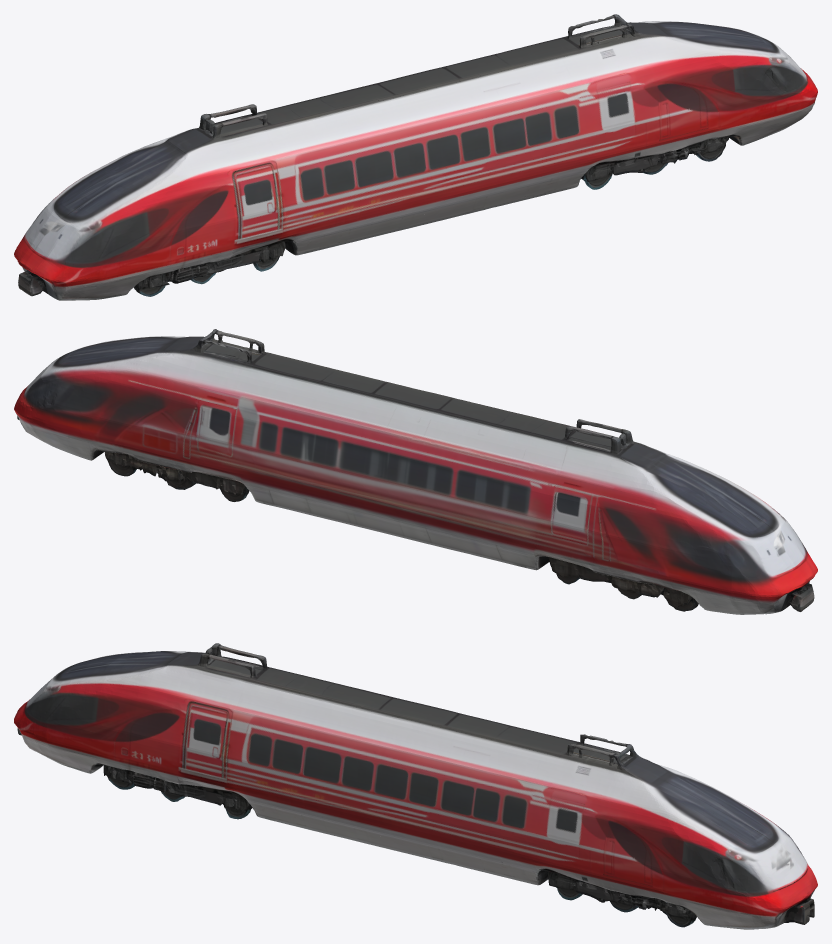
Rendered from Speeding_Intercity_Ex_0623115903_texture.fbx.
3 views of the same model, one above another, from view 1: azimuth 30°, elevation 25°; view 2: azimuth 150°, elevation 25°; view 3: azimuth 330°, elevation 25° (orthographic).
Visible parts, largest first — view 1: temp; view 2: temp; view 3: temp.
Boxes of the visible parts, box(x1,y1,x2,y2) form: temp: box(14, 14, 817, 300); temp: box(14, 329, 817, 614); temp: box(14, 643, 817, 929).
Size of the model in its own units: 200 by 36.58 by 24.6.
Materials: 1 (1 with a texture image).
